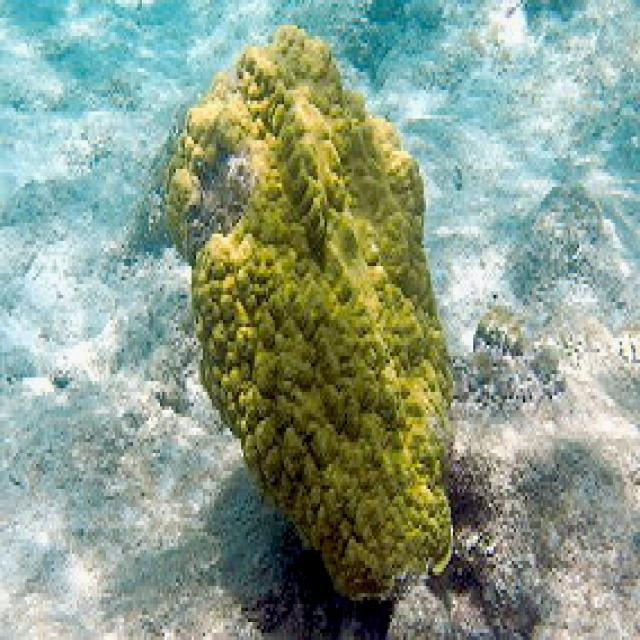Coral: (163, 25, 457, 604)
